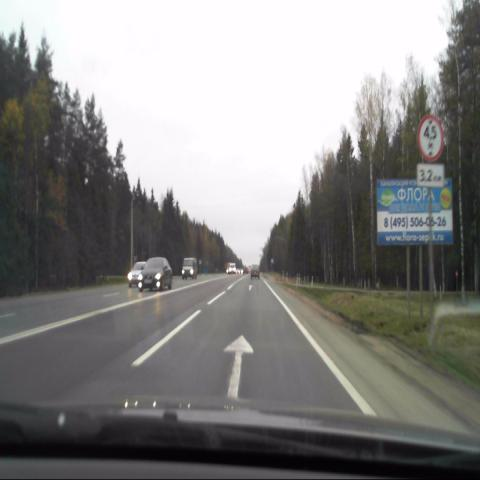3_13: (418, 115, 443, 160)
8_1_1: (416, 163, 445, 189)
